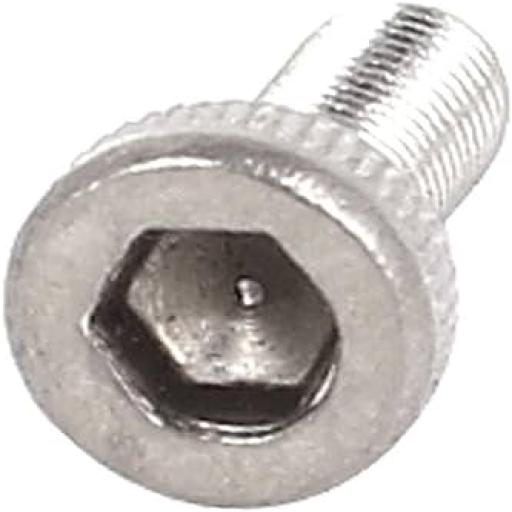Hex-Allen: (9, 99, 451, 511)
